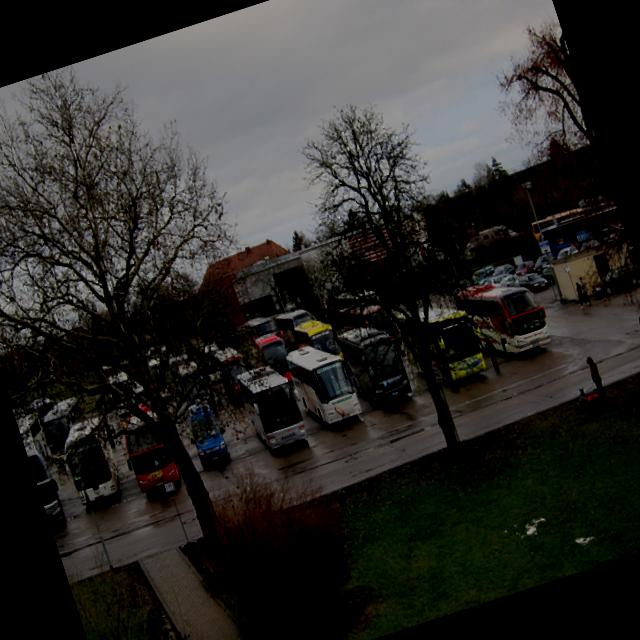Vehicle: (446, 256, 560, 369), (392, 293, 491, 399), (282, 333, 366, 433), (334, 316, 416, 416), (56, 413, 128, 512), (236, 360, 309, 456), (112, 398, 184, 494), (21, 430, 71, 530), (529, 195, 619, 247), (252, 328, 300, 392), (186, 407, 230, 467), (292, 314, 342, 366), (587, 261, 640, 300), (517, 269, 548, 295), (486, 262, 519, 286), (509, 258, 537, 279), (494, 272, 522, 292), (530, 252, 552, 274), (554, 244, 579, 259), (637, 276, 640, 299)
